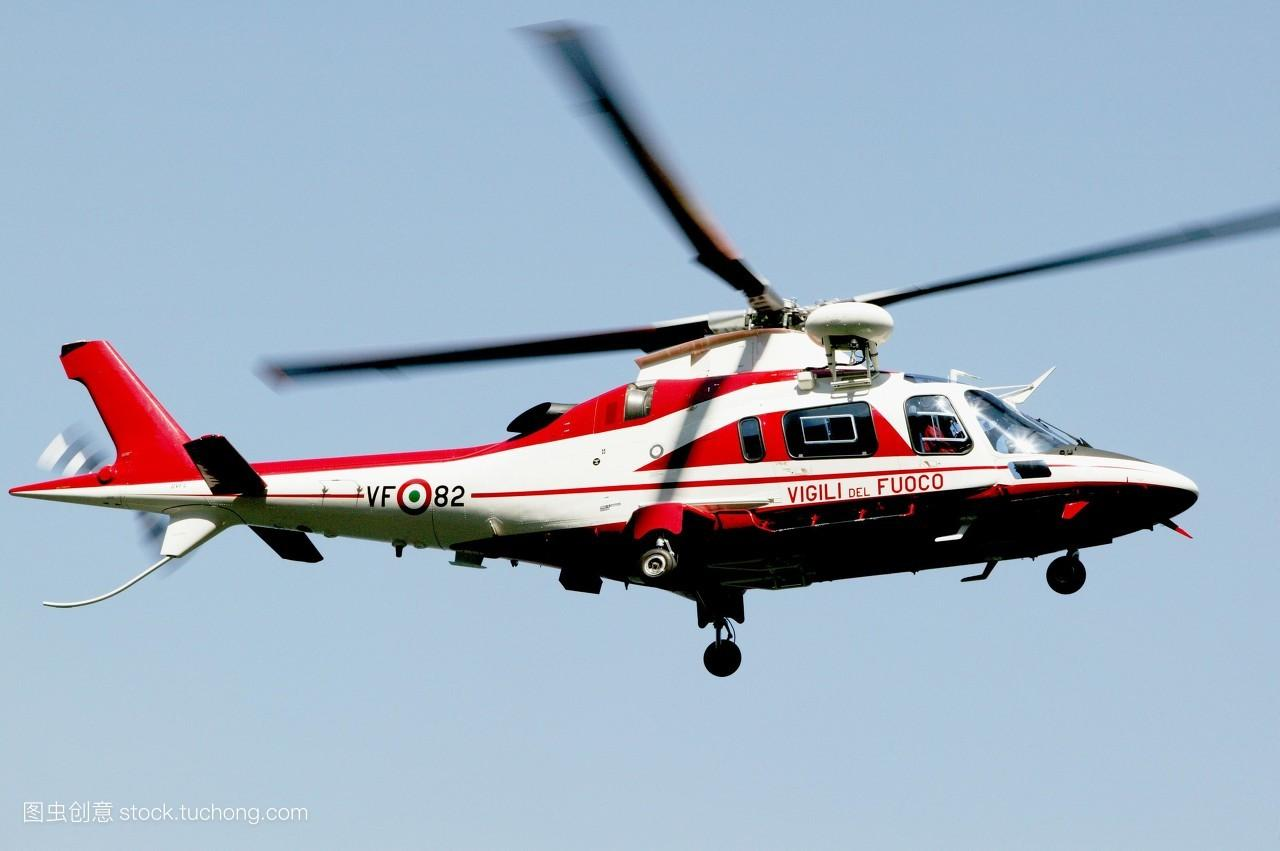airplane: (12, 22, 1280, 623)
